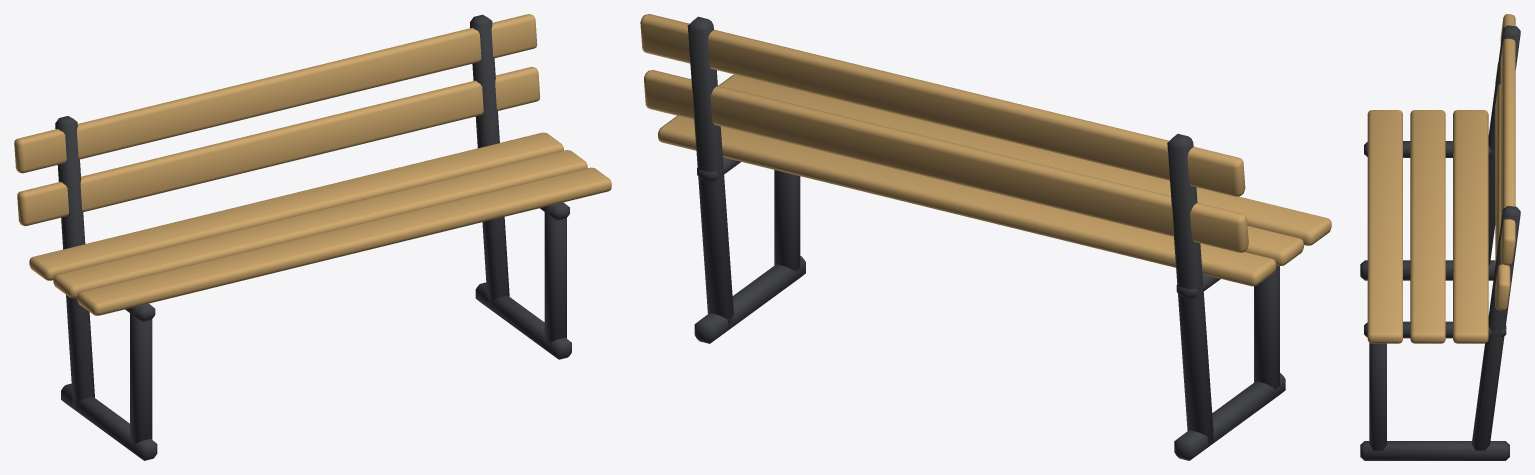
Rendered from bench.glb.
3 renders of one model, left to right at view 1: azimuth 30°, elevation 25°; view 2: azimuth 150°, elevation 25°; view 3: azimuth 270°, elevation 25°, orthographic. The views are drawn at different scales.
Parts seen in each view (by area): view 1: bench; view 2: bench; view 3: bench.
Part boxes in pixels (x1=…): bench: x1=14, y1=14, x2=611, y2=460; bench: x1=640, y1=14, x2=1331, y2=460; bench: x1=1360, y1=14, x2=1520, y2=460.
Size of the model in its own units: 1.5 by 0.7788 by 0.4501.
1 material, 1 textured.
